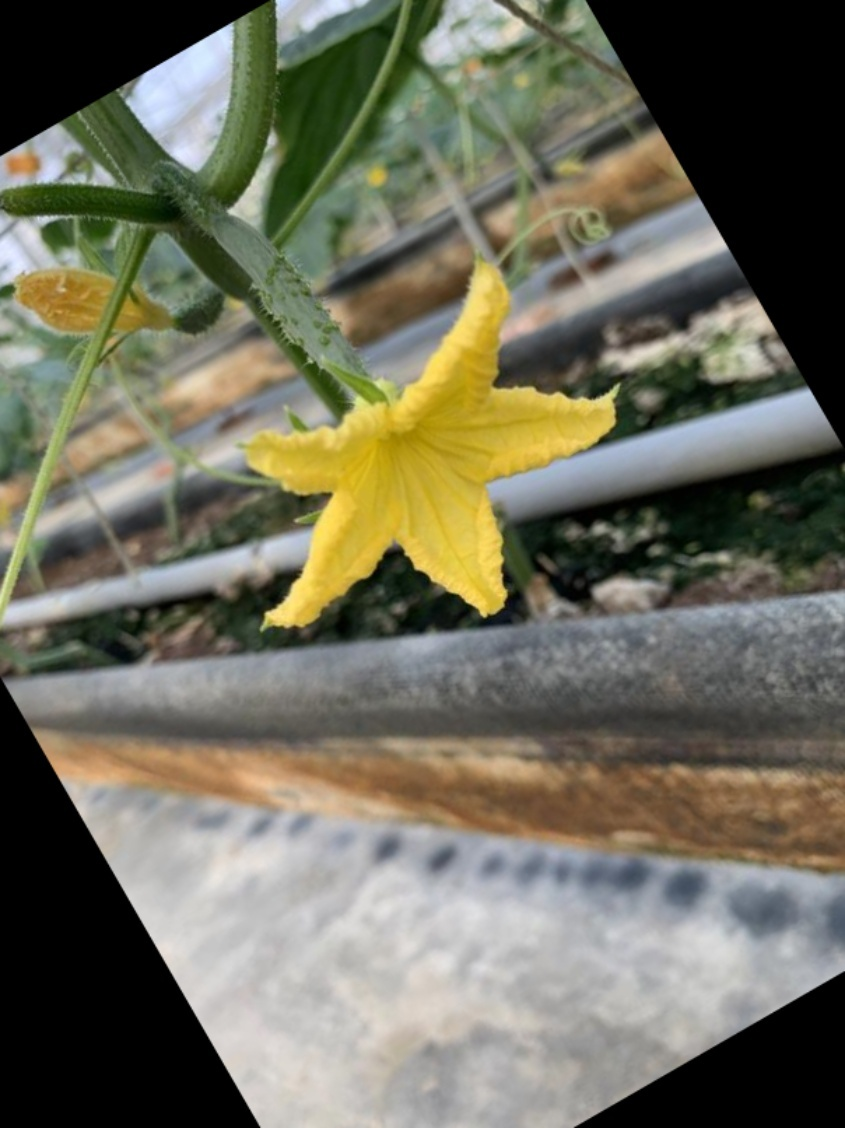flowering: (151, 197, 627, 630)
